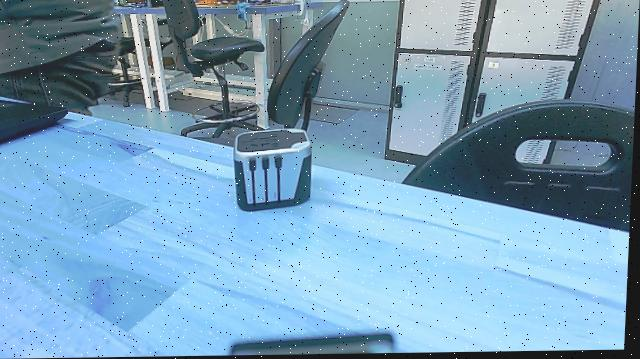adapter: (222, 123, 318, 215)
